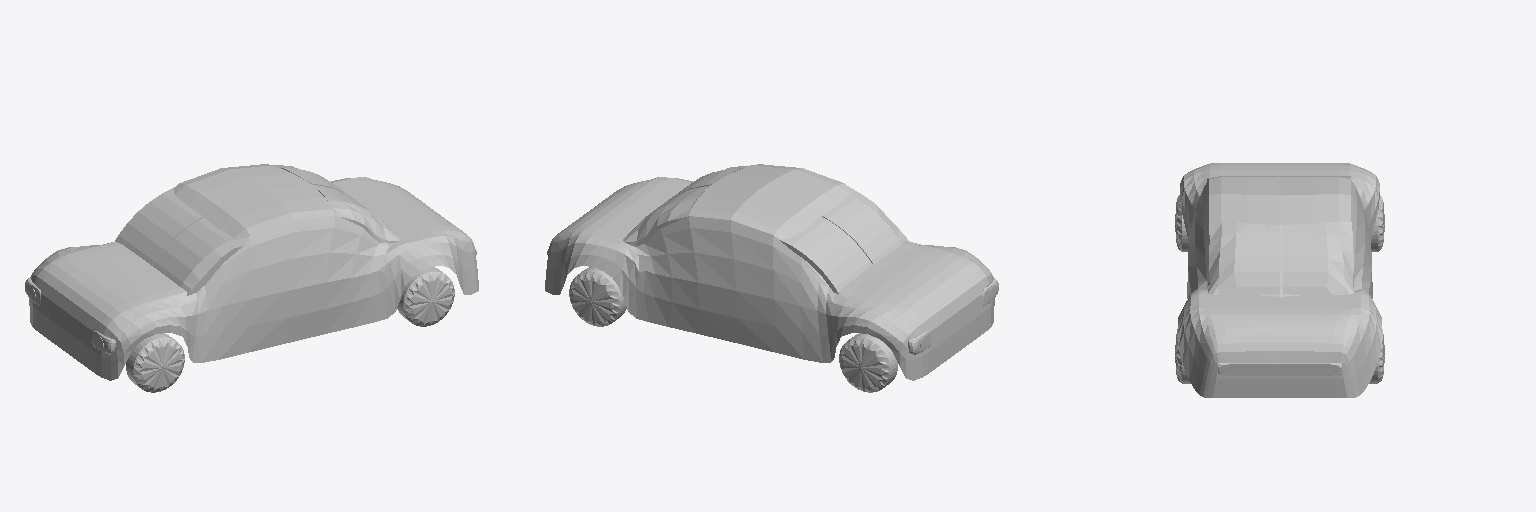
Rendered from 3D Pak Tahar.obj.
The picture shows the model from 3 angles: view 1: azimuth 30°, elevation 25°; view 2: azimuth 150°, elevation 25°; view 3: azimuth 270°, elevation 25°; orthographic projection.
Visible parts, largest first — view 1: Blue, Front_Window, Cylinder001, Cylinder002, Back_Window, Light; view 2: Blue, Front_Window, Cylinder003, Cylinder004, Back_Window, Light; view 3: Blue, Back_Window, Rear_Light.
Boxes of the visible parts, x1,y1,x2,y2 form: Blue: [29, 164, 478, 380]; Front_Window: [115, 188, 247, 295]; Cylinder001: [126, 333, 184, 392]; Cylinder002: [397, 267, 454, 326]; Back_Window: [267, 164, 399, 244]; Light: [25, 278, 115, 354]; Blue: [545, 164, 994, 380]; Front_Window: [779, 186, 909, 293]; Cylinder003: [839, 333, 897, 392]; Cylinder004: [569, 267, 626, 326]; Back_Window: [623, 166, 747, 246]; Light: [908, 278, 998, 354]; Blue: [1177, 163, 1382, 397]; Back_Window: [1208, 222, 1353, 294]; Rear_Light: [1218, 363, 1341, 375].
Bounding box in the file's own units: 146 × 47.47 × 70.04.